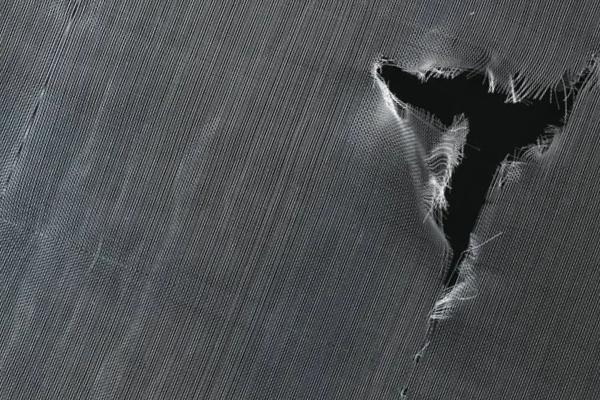hole: (367, 48, 592, 346)
